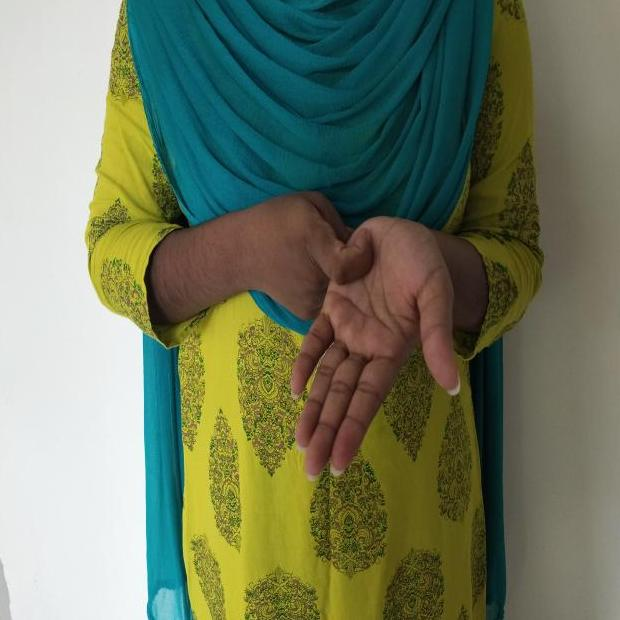Q: (239, 172, 484, 502)
